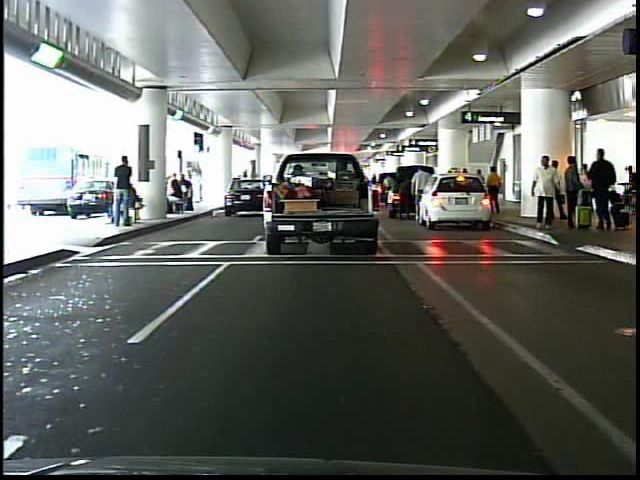person: (585, 146, 620, 239), (529, 150, 564, 236), (562, 152, 584, 227), (116, 157, 137, 232), (410, 162, 434, 226), (488, 165, 506, 216), (622, 161, 640, 196)
